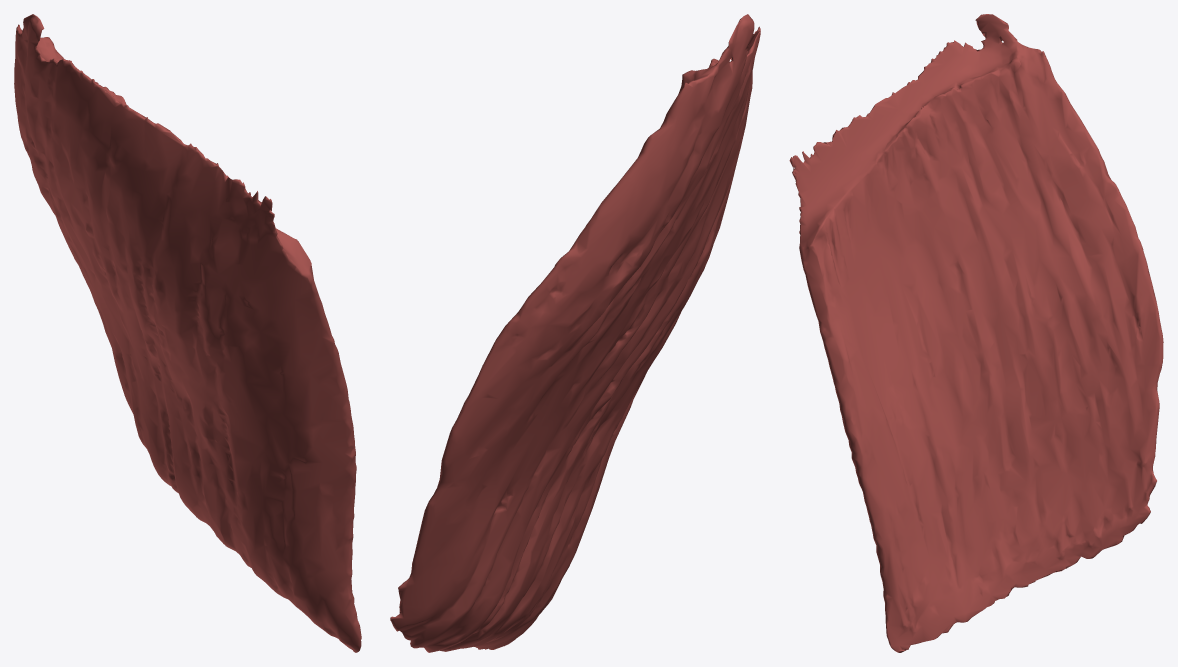
The model's file is FMA49004.glb.
The picture shows the model from 3 angles, left to right: view 1: azimuth 30°, elevation 25°; view 2: azimuth 150°, elevation 25°; view 3: azimuth 270°, elevation 25°; orthographic projection. The views are drawn at different scales.
Visible parts, largest first — view 1: FMA49004; view 2: FMA49004; view 3: FMA49004.
Boxes of the visible parts, x1,y1,x2,y2 form: FMA49004: (14, 14, 361, 652); FMA49004: (390, 14, 760, 652); FMA49004: (789, 14, 1163, 652).
Bounding box in the file's own units: 0.0258 × 0.0603 × 0.0382.
